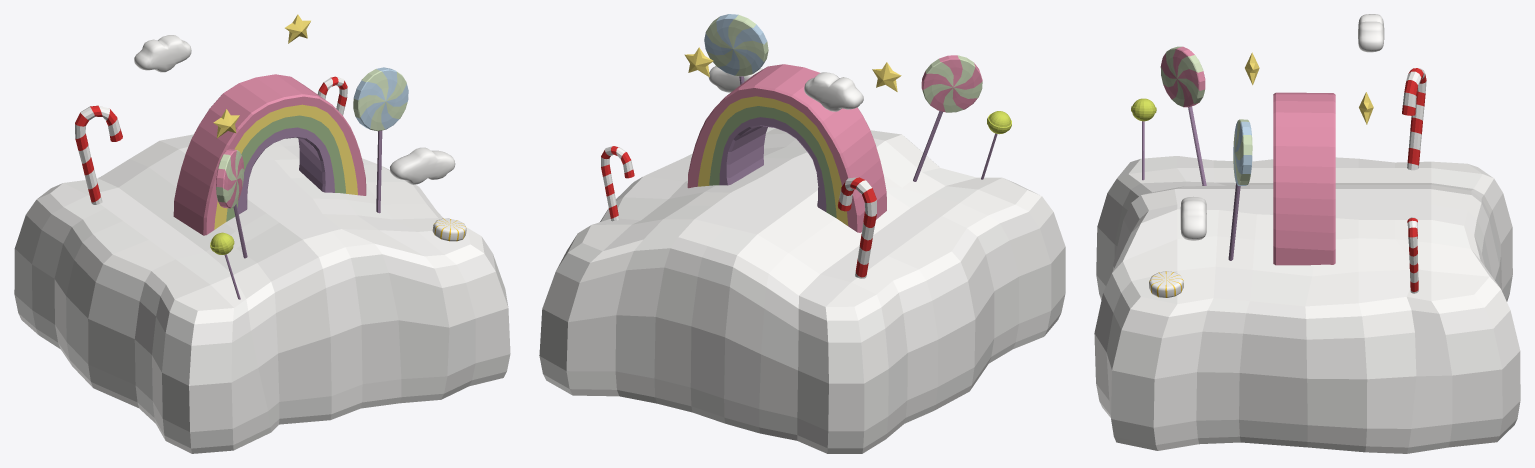
The model's file is Island_18.glb.
3 views of the same model, side by side, from view 1: azimuth 30°, elevation 25°; view 2: azimuth 150°, elevation 25°; view 3: azimuth 270°, elevation 25° (orthographic). The views are drawn at different scales.
Parts seen in each view (by area): view 1: Isl18_Base, Isl18_Rainbow, Isl18_Candy_4, Isl18_Candy_6, Isl18_Cloud_1, Isl18_Candy_1, Isl18_Cloud_2, Isl18_Candy_2, Isl18_Candy_3, Isl18_Candy_5; view 2: Isl18_Base, Isl18_Rainbow, Isl18_Candy_1, Isl18_Candy_4, Isl18_Candy_6, Isl18_Cloud_2, Isl18_Candy_5, Isl18_Candy_3, Isl18_Cloud_1; view 3: Isl18_Base, Isl18_Rainbow, Isl18_Candy_1, Isl18_Candy_6, Isl18_Candy_4, Isl18_Cloud_1, Isl18_Cloud_2, Isl18_Candy_2, Isl18_Candy_5, Isl18_Candy_3.
Part boxes in pixels (box(x1,y1,x2,y2)): Isl18_Base: box(14, 134, 510, 453); Isl18_Rainbow: box(173, 74, 366, 235); Isl18_Candy_4: box(353, 67, 408, 213); Isl18_Candy_6: box(75, 105, 122, 204); Isl18_Cloud_1: box(390, 147, 455, 184); Isl18_Candy_1: box(216, 149, 247, 258); Isl18_Cloud_2: box(134, 35, 191, 72); Isl18_Candy_2: box(432, 218, 466, 241); Isl18_Candy_3: box(210, 232, 240, 299); Isl18_Candy_5: box(317, 76, 347, 115); Isl18_Base: box(539, 127, 1065, 453); Isl18_Rainbow: box(687, 64, 886, 232); Isl18_Candy_1: box(913, 55, 982, 181); Isl18_Candy_4: box(704, 14, 768, 84); Isl18_Candy_6: box(838, 177, 876, 278); Isl18_Cloud_2: box(804, 72, 863, 111); Isl18_Candy_5: box(601, 146, 634, 221); Isl18_Candy_3: box(981, 111, 1011, 179); Isl18_Cloud_1: box(708, 66, 762, 92); Isl18_Base: box(1094, 156, 1520, 453); Isl18_Rainbow: box(1273, 92, 1335, 265); Isl18_Candy_1: box(1160, 46, 1206, 185); Isl18_Candy_6: box(1402, 68, 1426, 170); Isl18_Candy_4: box(1228, 119, 1252, 260); Isl18_Cloud_1: box(1180, 196, 1206, 240); Isl18_Cloud_2: box(1358, 14, 1384, 52); Isl18_Candy_2: box(1149, 271, 1183, 297); Isl18_Candy_5: box(1407, 217, 1418, 293); Isl18_Candy_3: box(1131, 98, 1156, 180).
Bounding box in the file's own units: 20.64 × 17.12 × 21.12.
Materials: 1 (1 with a texture image).
